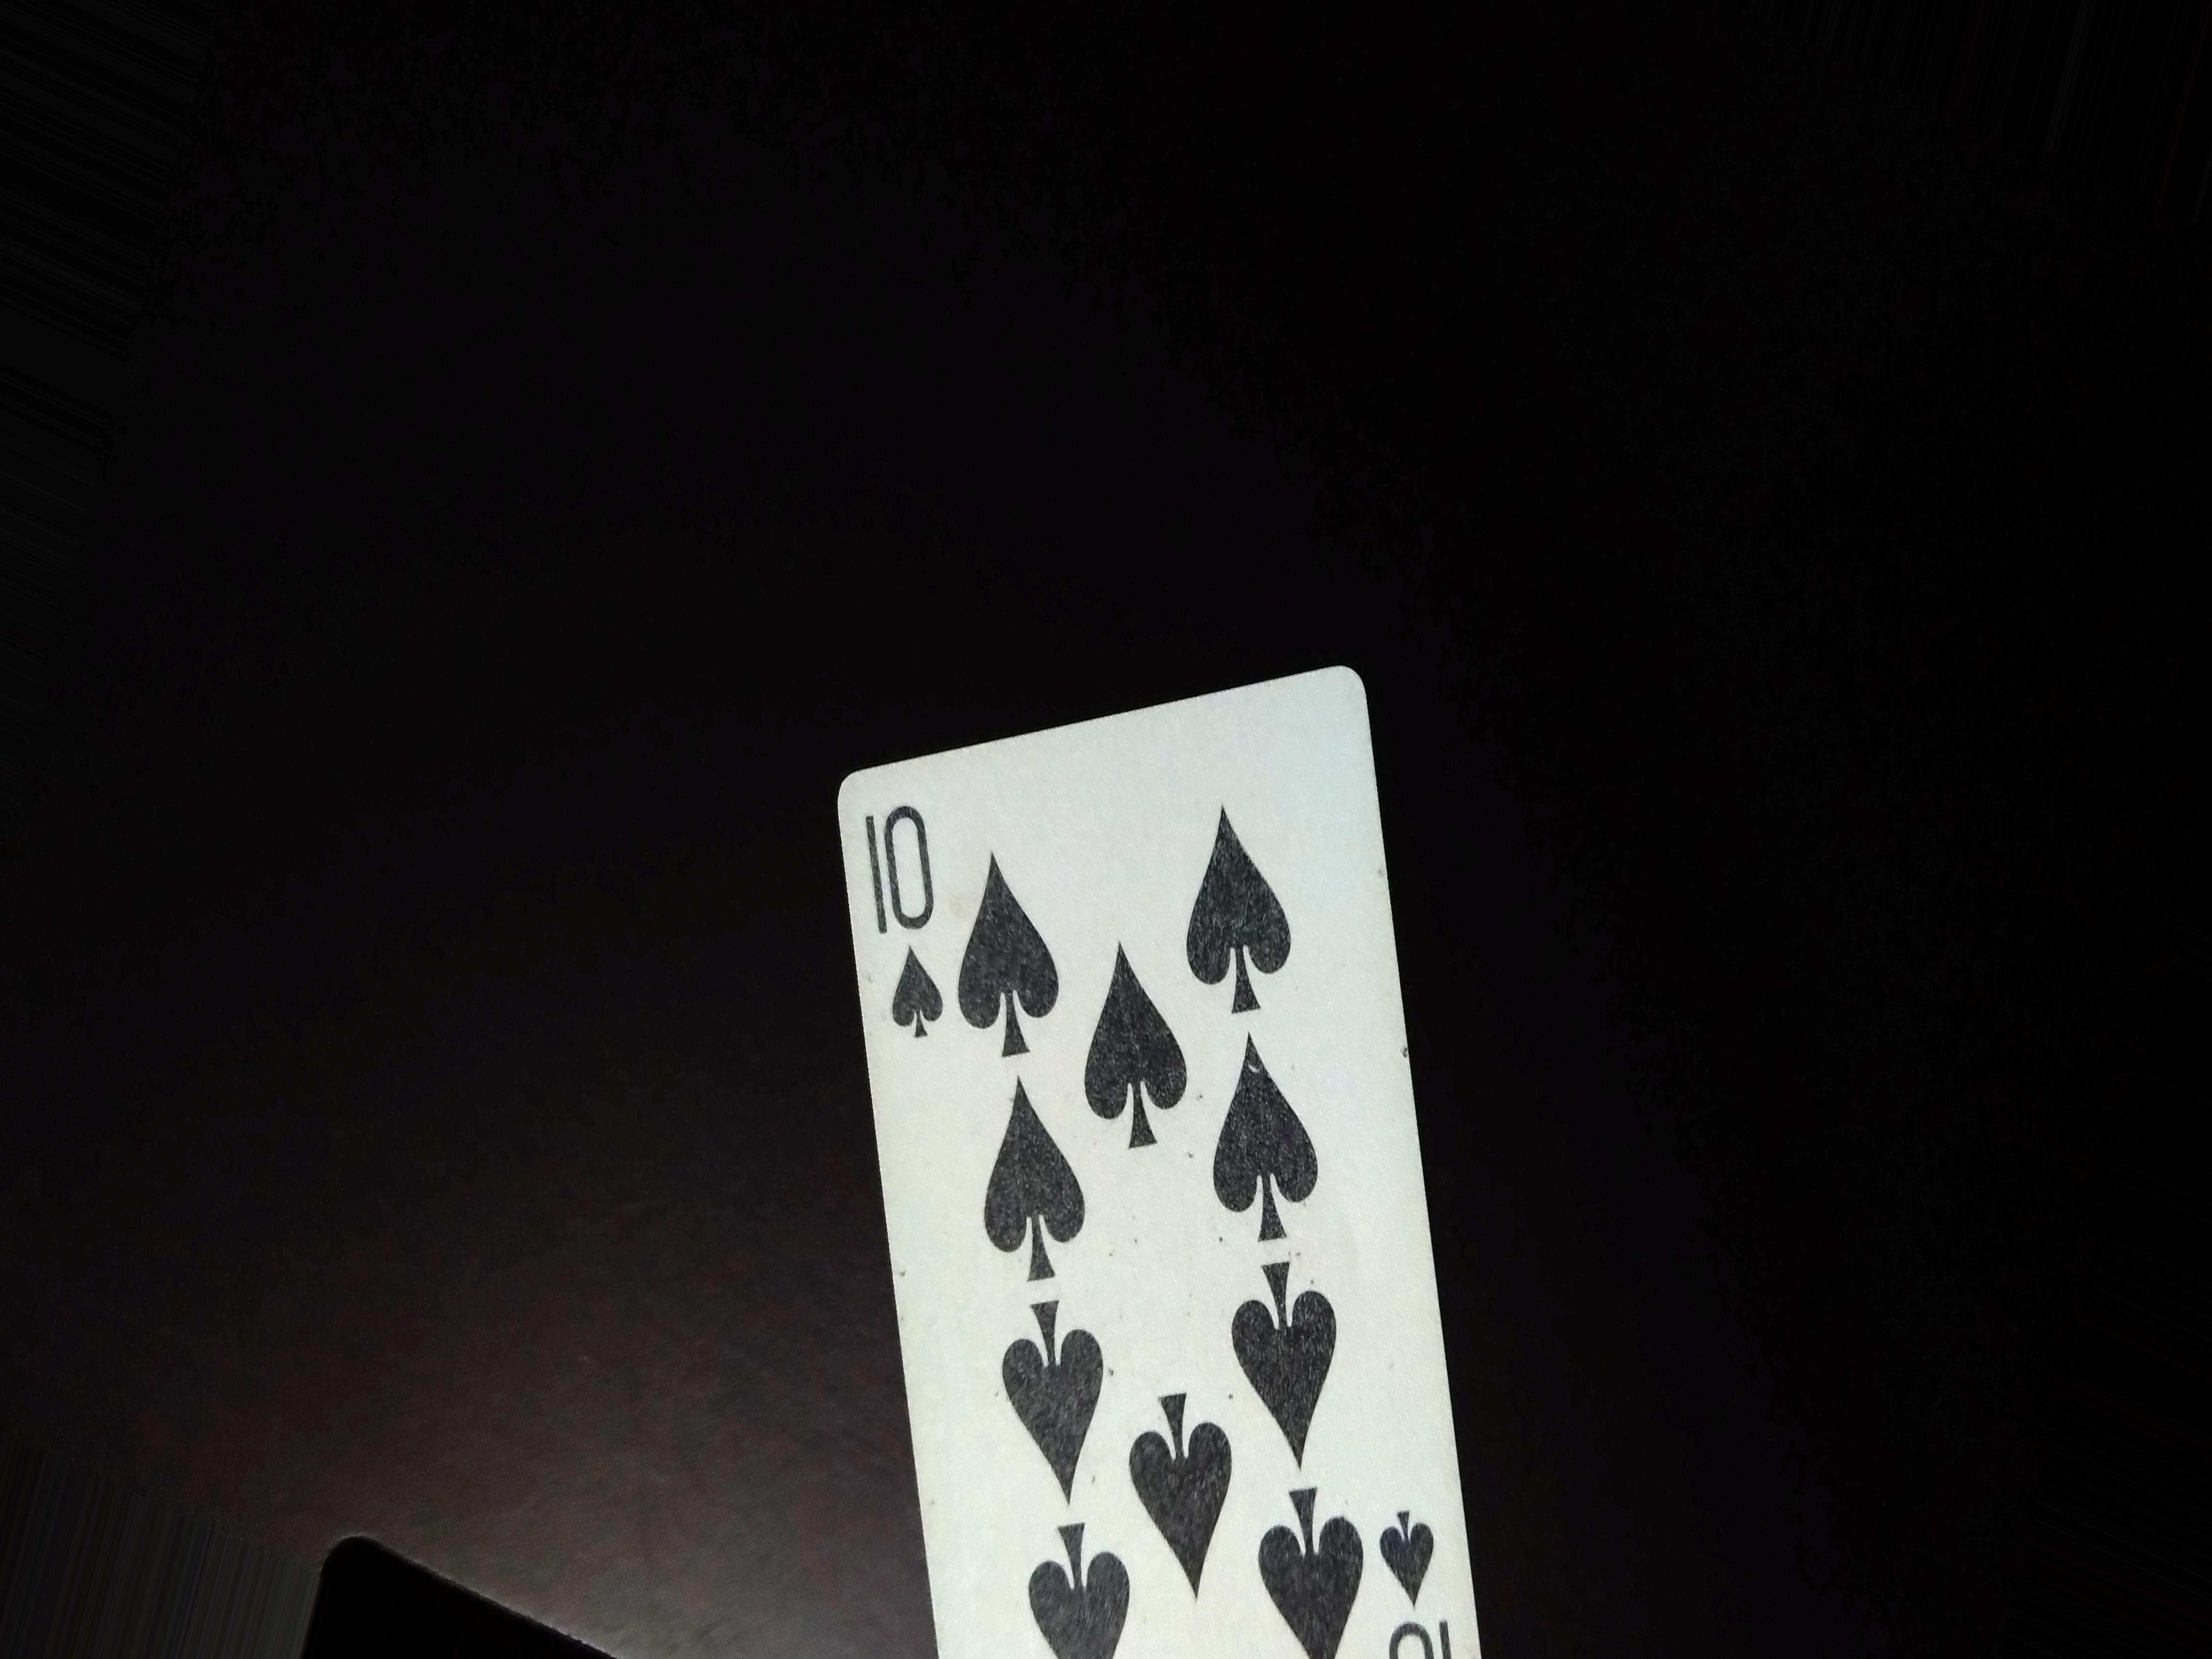10S: (860, 789, 949, 1063)
